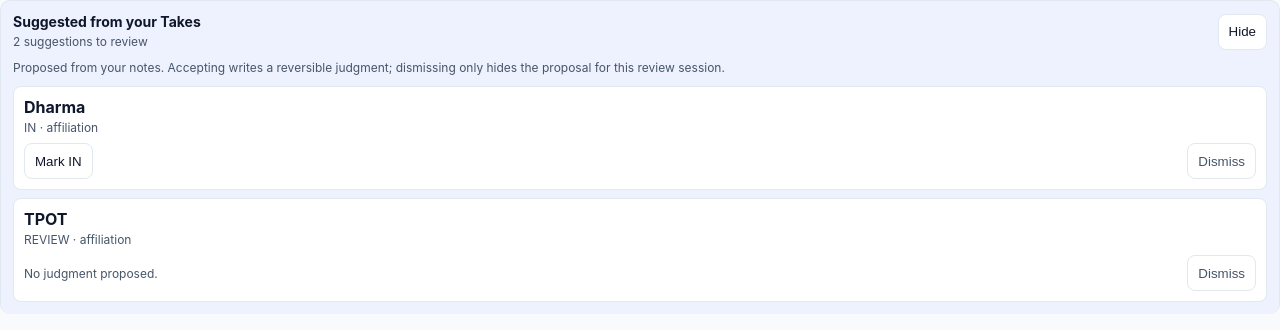
it: TagSuggestions › can collapse suggestions and dismiss a proposal without writing a tag
Click the button with aria-label "Dismiss TPOT suggestion". click: (1222, 273)
box: left=1187, top=255, right=1256, bottom=291
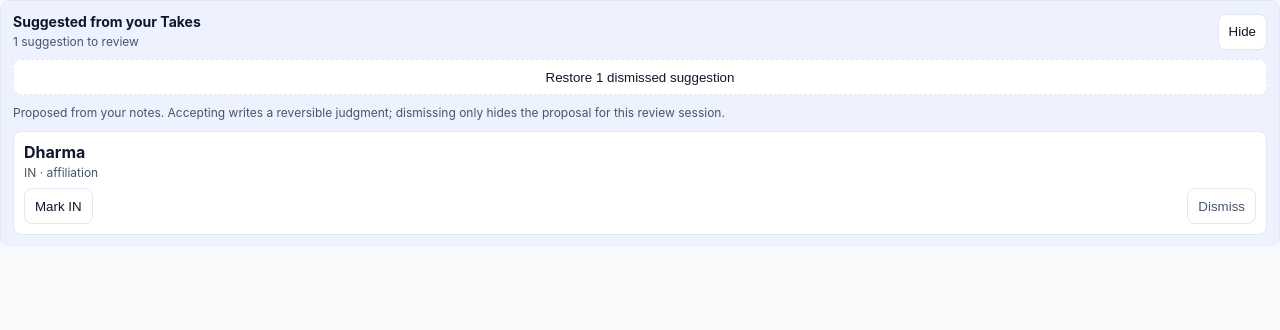
Now the text "1 suggestion to review" is shown, box left=13, top=34, right=139, bottom=49
Click the button with aria-label "Collapse suggestions". click: (1242, 32)
box: left=1218, top=14, right=1267, bottom=50
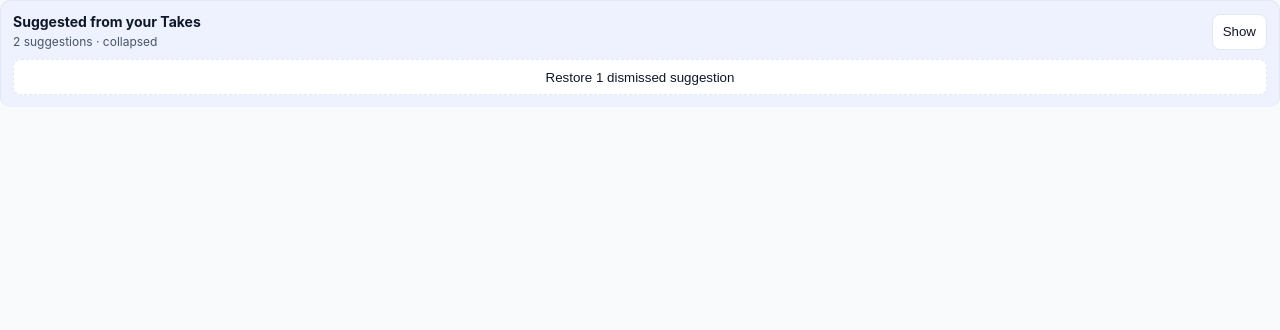
Now the text "Dharma" is gone
Now the text "2 suggestions · collapsed" is shown, box left=13, top=34, right=158, bottom=49
